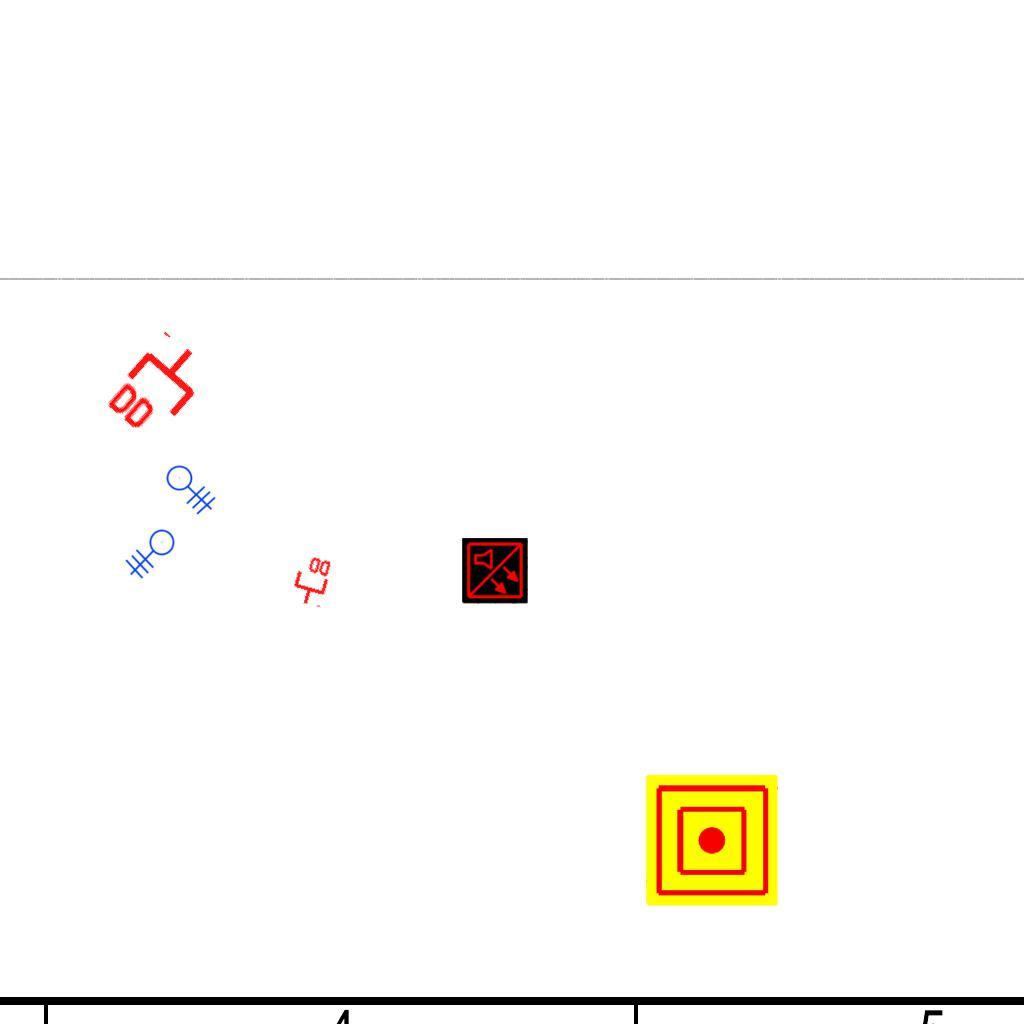Datenanschluss_zweifach: (99, 326, 220, 451), (287, 551, 335, 610)
Elektroanschluss_allgemein_400V_Geraeteanschlussdose_400V: (166, 457, 222, 515), (125, 529, 183, 585)
NAM-Nichtautomatischer_Melder: (646, 774, 778, 906)
OKW_Multisensormelder_(Kombination_optischer_Rauch-Kahlenmonoxid_Waerme-Melder): (462, 538, 528, 604)
